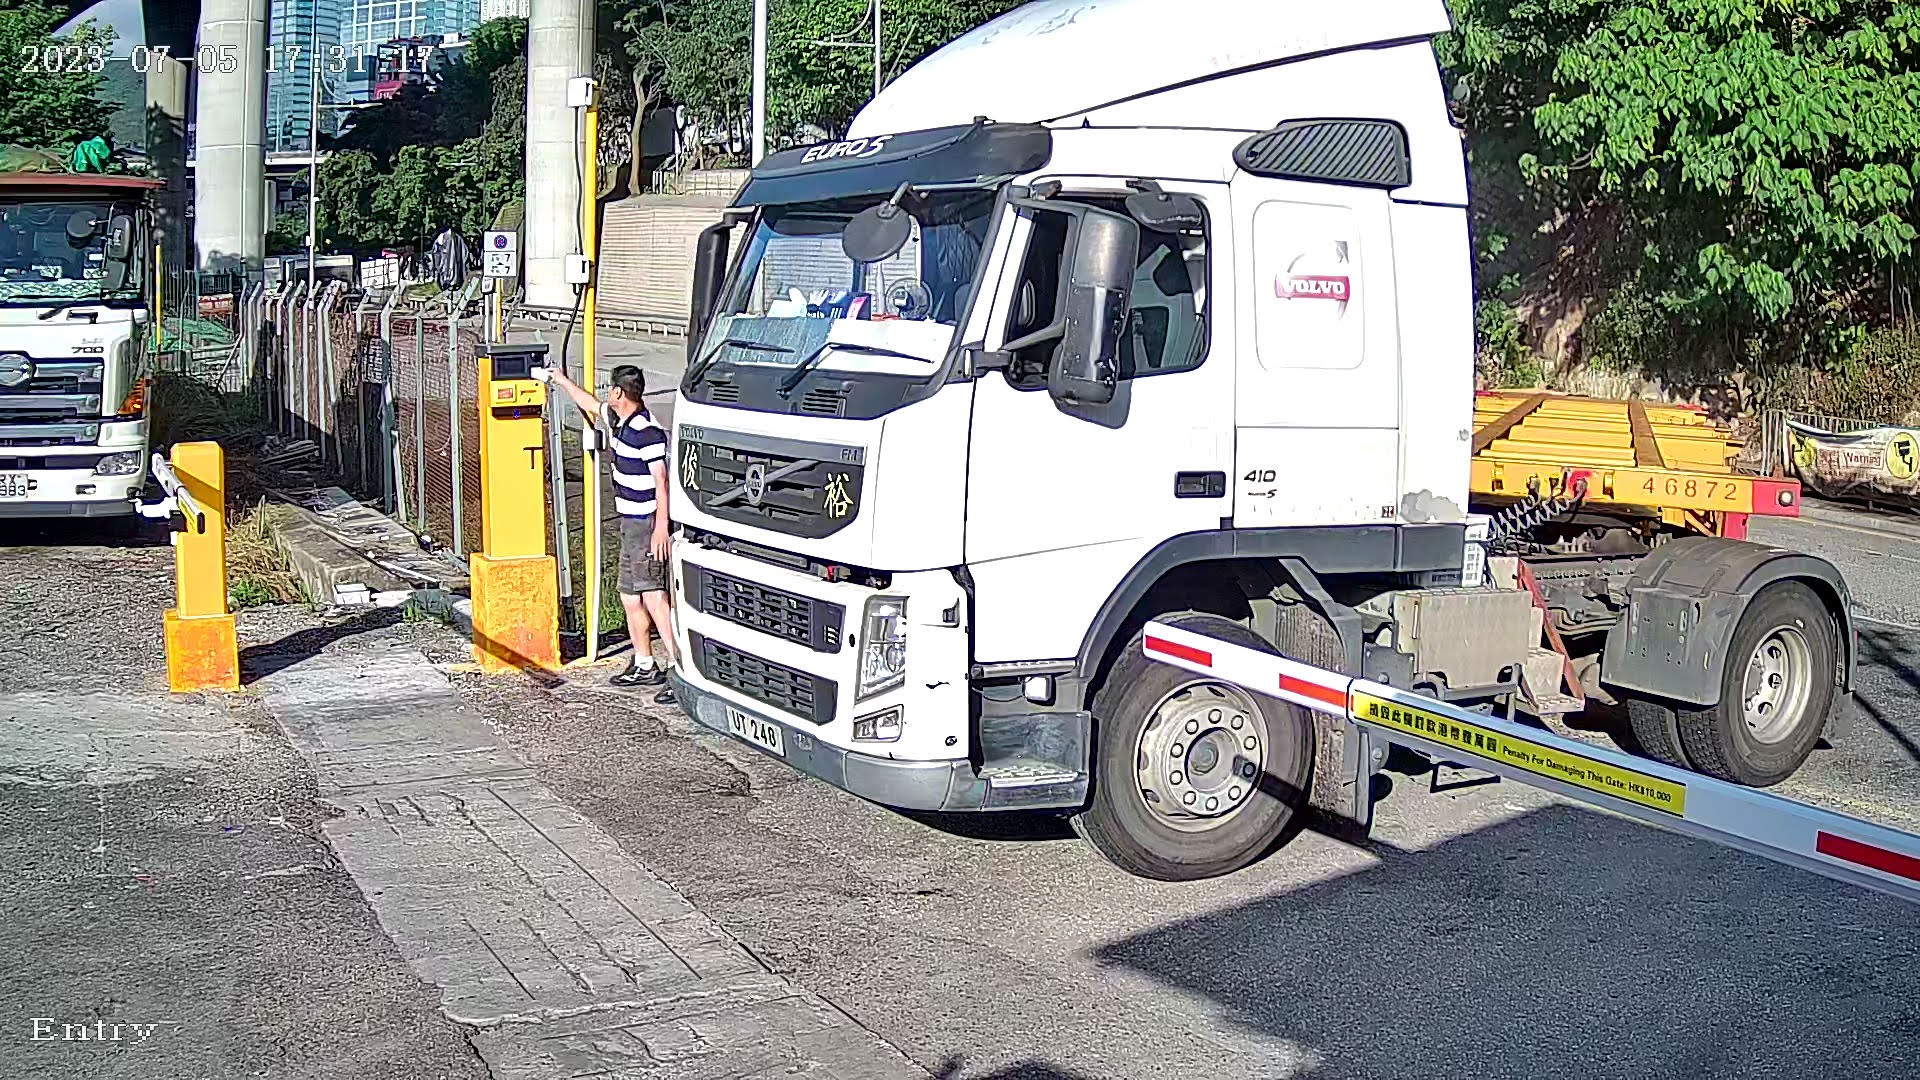truck: (640, 1, 1855, 893)
